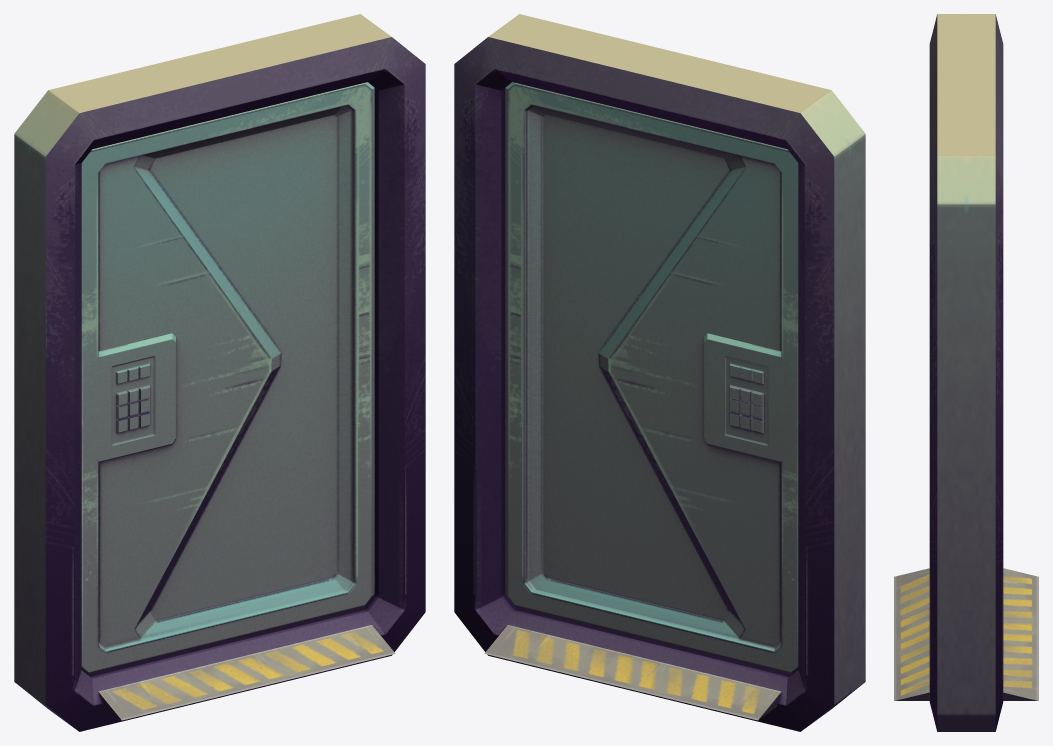
The model's file is Door_Ship.glb.
3 views of the same model, side by side, from view 1: azimuth 30°, elevation 25°; view 2: azimuth 150°, elevation 25°; view 3: azimuth 270°, elevation 25° (orthographic). The views are drawn at different scales.
Visible parts, largest first — view 1: Door_Ship, DoorFrame_1Room.001; view 2: Door_Ship, DoorFrame_1Room.001; view 3: DoorFrame_1Room.001.
Boxes of the visible parts, <box> form: Door_Ship: <box>81,82,374,675</box>; DoorFrame_1Room.001: <box>14,14,425,731</box>; Door_Ship: <box>505,82,798,675</box>; DoorFrame_1Room.001: <box>454,14,865,731</box>; DoorFrame_1Room.001: <box>894,14,1038,731</box>.
Bounding box in the file's own units: 1.51 × 2.34 × 0.5344.
1 material, 1 textured.
